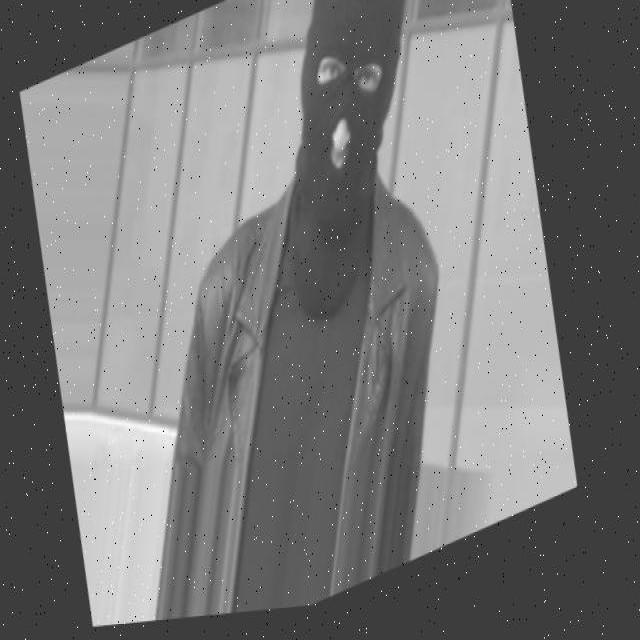6_pasamontana: (294, 0, 404, 320)
